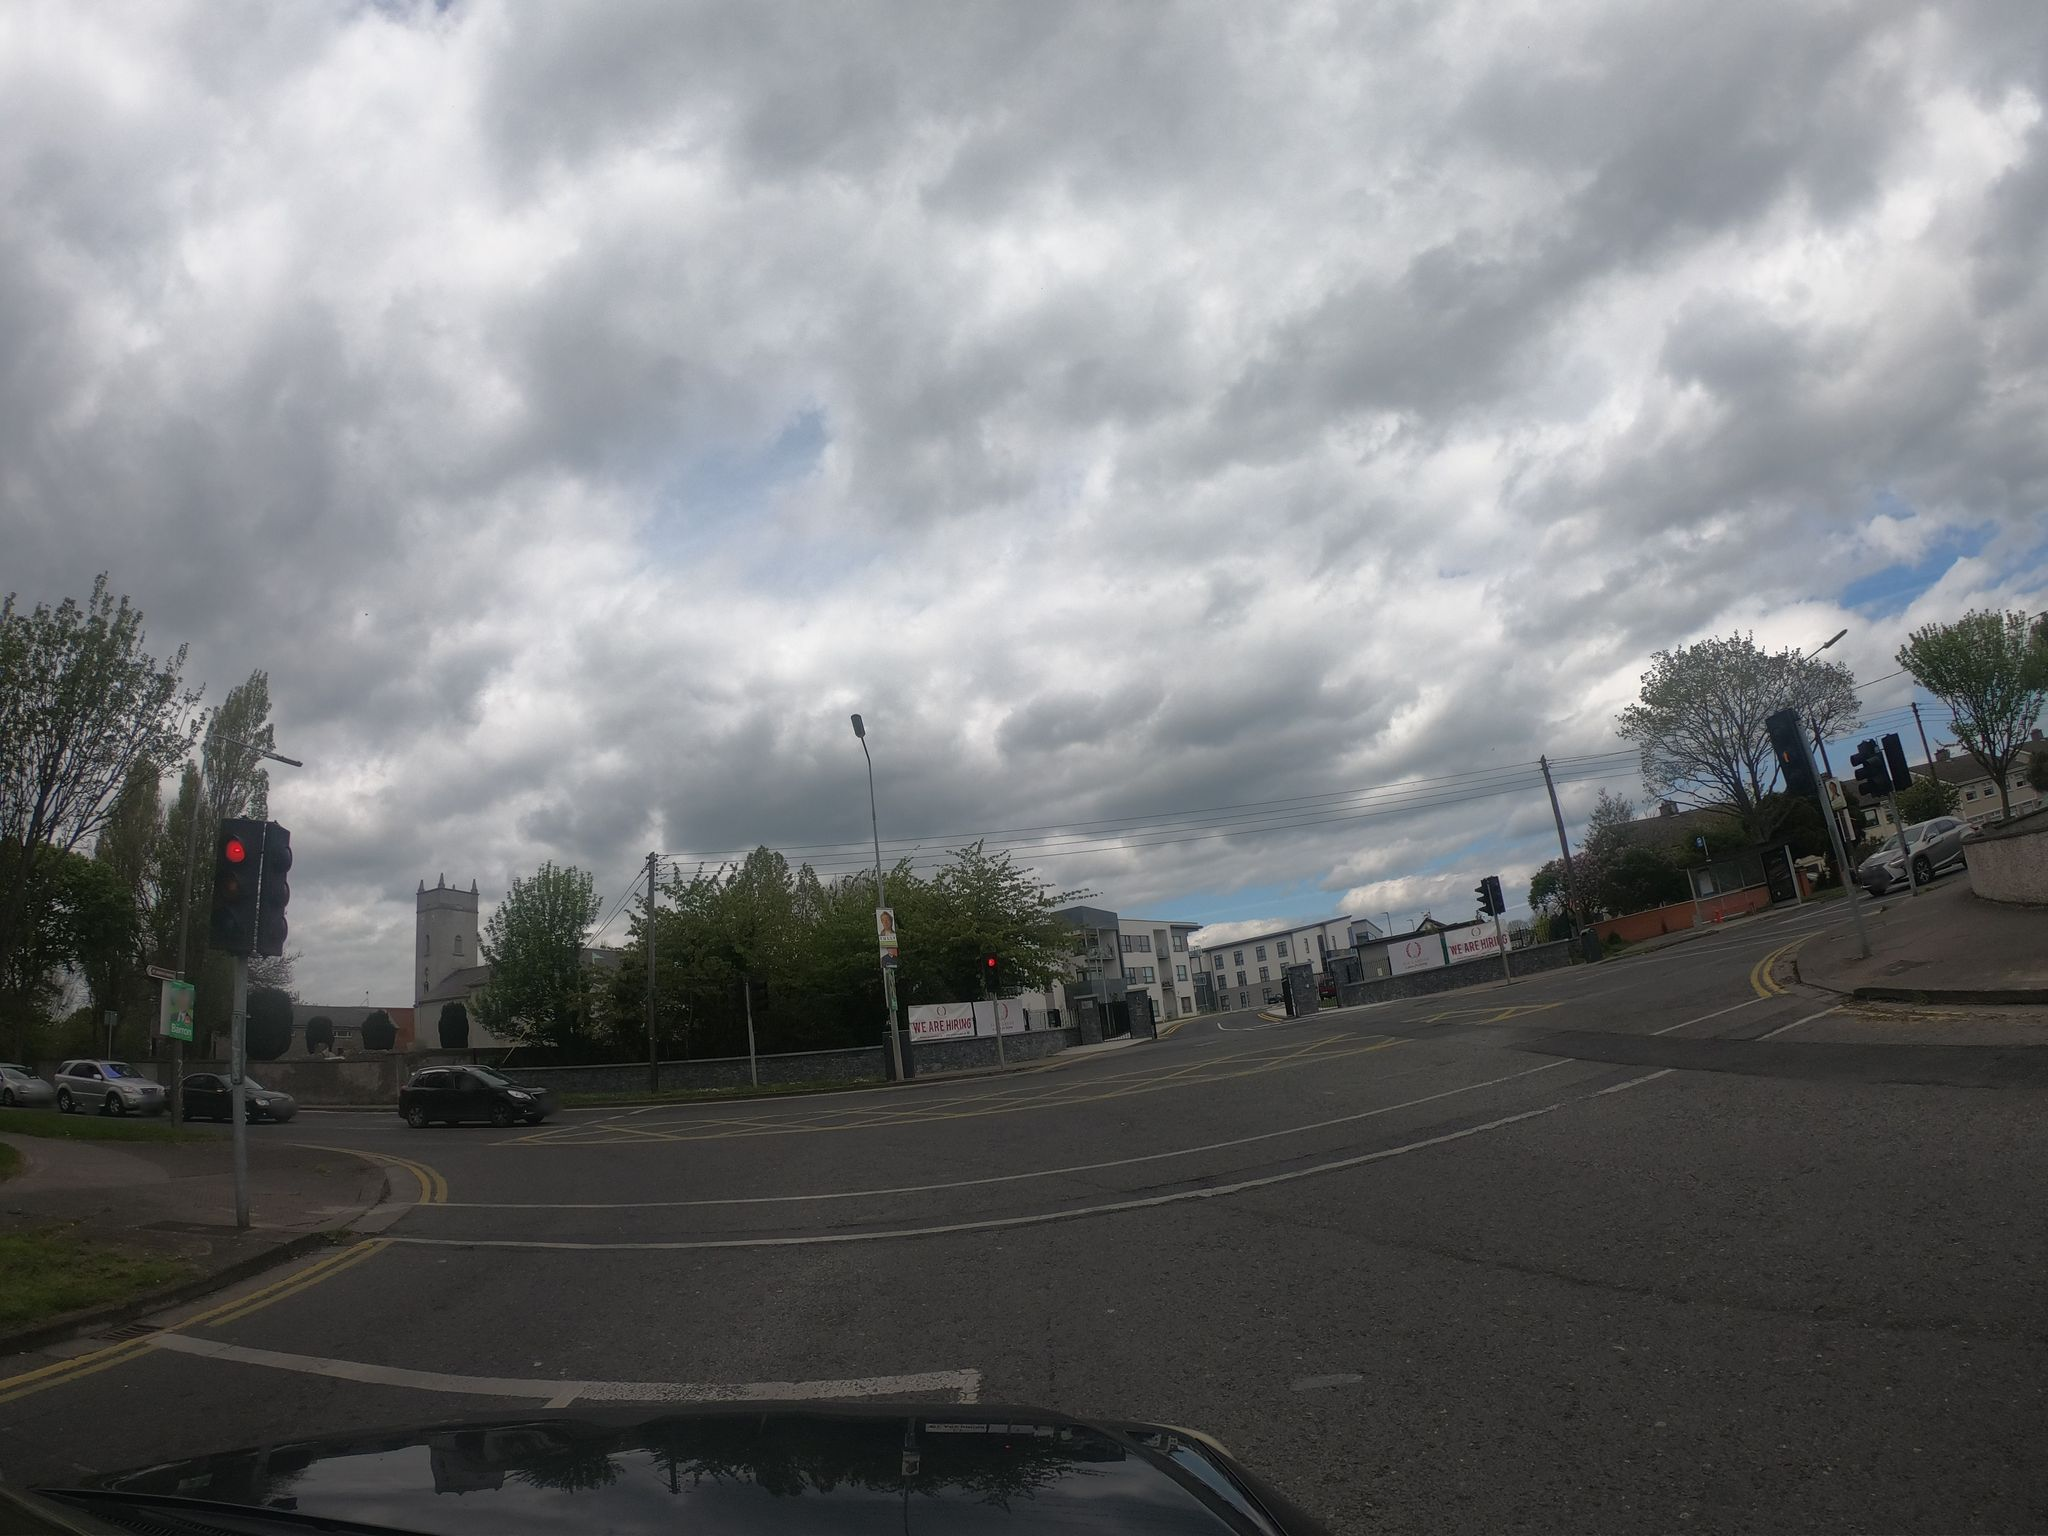vinyl banner: (908, 987, 989, 1049), (1443, 908, 1517, 975)
